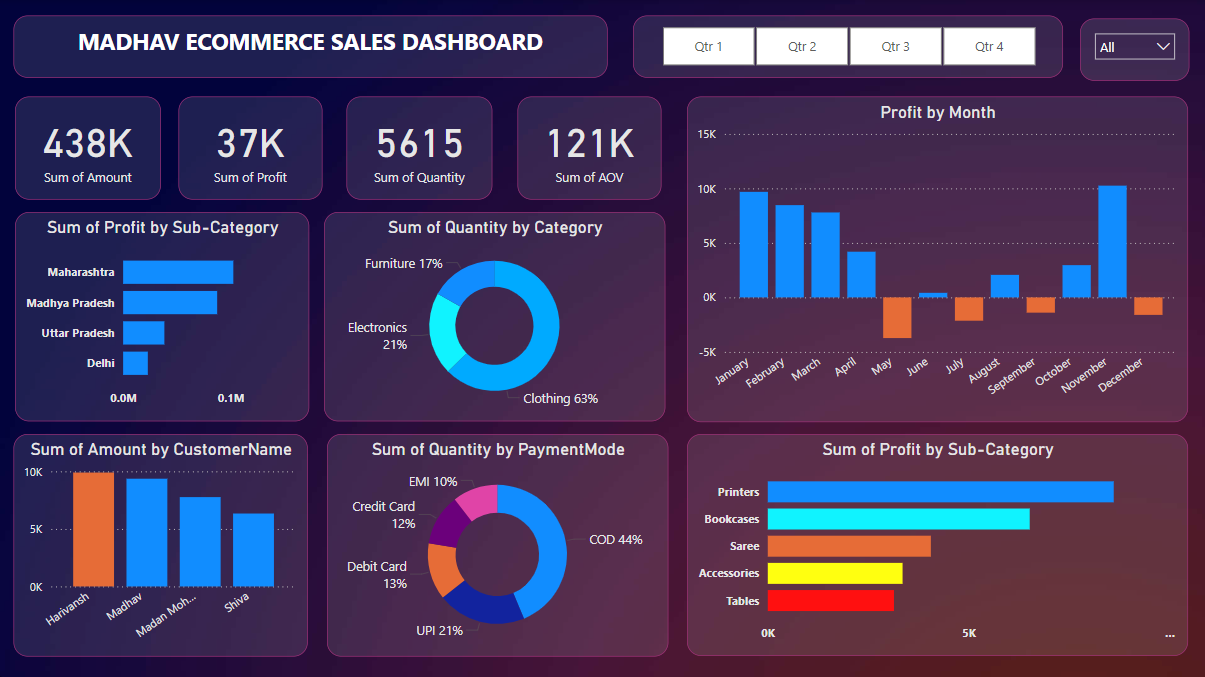

This screenshot's page, from the dashboard's own definition file:
{"tool":"powerbi","page":{"name":"Page 1","canvas":[1280,720],"ordinal":0},"visuals":[{"type":"textbox","box":[14,18,630,66],"z":0},{"type":"columnChart","title":"Profit by Month","fields":{"Category":["Orders.Order Date.Variation.Date Hierarchy.Month"],"Y":["Details.Profit"]},"box":[728.5,103.4,531.3,345.2],"z":1000},{"type":"barChart","title":"Sum of Profit by Sub-Category","fields":{"Y":["Details.Profit"],"Category":["Details.Sub-Category"]},"box":[728.5,461.3,531.3,235.4],"z":2000},{"type":"donutChart","title":"Sum of Quantity by PaymentMode","fields":{"Category":["Details.PaymentMode"],"Y":["Details.Quantity"],"Series":["Details.PaymentMode"]},"box":[346,462,362,236],"z":3000},{"type":"donutChart","fields":{"Category":["Details.Category"],"Y":["Details.Quantity"]},"box":[344,226,362,222],"z":4000},{"type":"card","fields":{"Values":["Details.Amount"]},"box":[15.9,103.2,154.9,109.2],"z":5000},{"type":"card","fields":{"Values":["Details.Quantity"]},"box":[367.3,103.2,154.9,109.2],"z":6000},{"type":"card","fields":{"Values":["Details.Profit"]},"box":[188.6,103.2,152.9,109.2],"z":7000},{"type":"card","fields":{"Values":["Details.AOV"]},"box":[548,103.2,152.9,109.2],"z":8000},{"type":"barChart","title":"Sum of Profit by Sub-Category","fields":{"Category":["Orders.State"],"Y":["Details.Amount"]},"box":[16,226,312,222],"z":9000},{"type":"columnChart","fields":{"Category":["Orders.CustomerName"],"Y":["Details.Amount"]},"box":[14,462,312,236],"z":10000},{"type":"slicer","fields":{"Values":["Orders.Order Date.Variation.Date Hierarchy.Quarter"]},"box":[672,18,456,66],"z":11000},{"type":"slicer","fields":{"Values":["Orders.State"]},"box":[1146,20,116,66],"z":12000}]}

Visuals, with their boxes in screenshot pixels (x1, y1, x2, y2), scaled from the page's 1280x720 canvas onto the 1205x677 screenshot:
textbox: rect(13, 17, 606, 79)
"Profit by Month" columnChart: rect(686, 97, 1186, 422)
"Sum of Profit by Sub-Category" barChart: rect(686, 434, 1186, 655)
"Sum of Quantity by PaymentMode" donutChart: rect(326, 434, 667, 656)
donutChart - Details.Category x Details.Quantity: rect(324, 213, 665, 421)
card - Details.Amount: rect(15, 97, 161, 200)
card - Details.Quantity: rect(346, 97, 492, 200)
card - Details.Profit: rect(178, 97, 321, 200)
card - Details.AOV: rect(516, 97, 660, 200)
"Sum of Profit by Sub-Category" barChart: rect(15, 213, 309, 421)
columnChart - Orders.CustomerName x Details.Amount: rect(13, 434, 307, 656)
slicer - Orders.Order Date.Variation.Date Hierarchy.Quarter: rect(633, 17, 1062, 79)
slicer - Orders.State: rect(1079, 19, 1188, 81)
